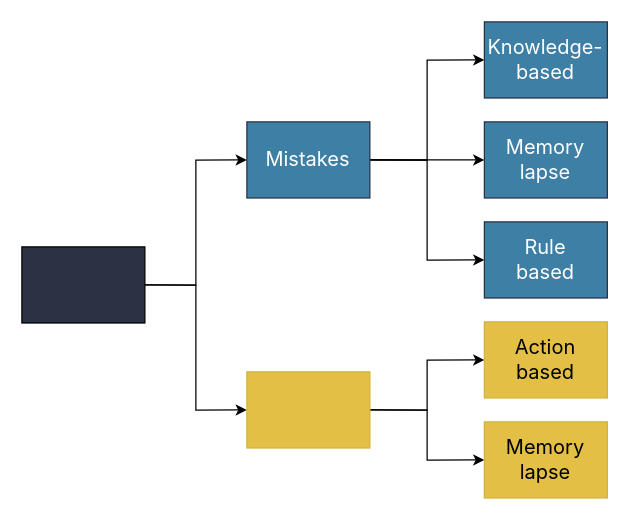
This 630x520 diagram has some shape labels left out. Each missing label, with the box of its shape:
Human Error: (21, 246, 145, 323)
Slips: (246, 371, 370, 448)
